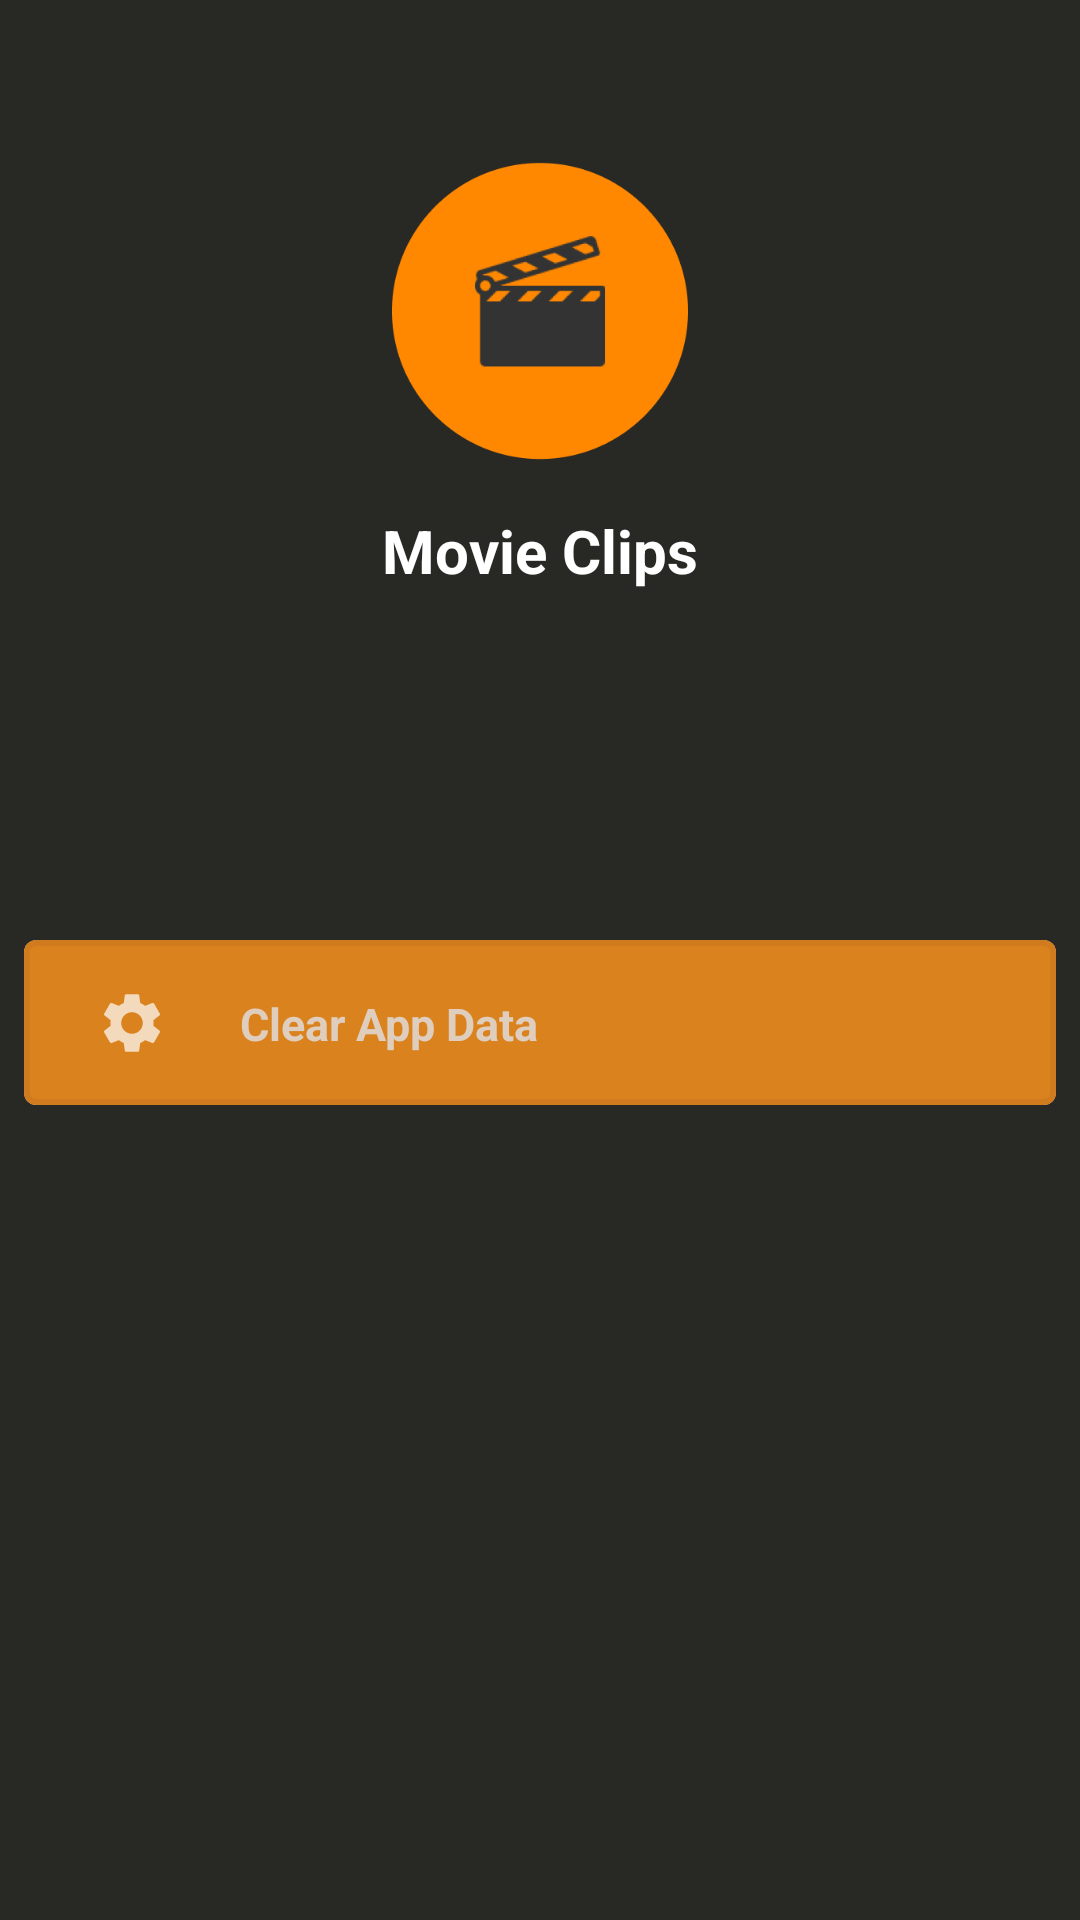

Screen size 1080px×1920px. Icon name, then its box in pixels as {"left": x1, "top": y1, "right": x2, "bottom": y2}:
settings: {"left": 104, "top": 994, "right": 160, "bottom": 1052}
